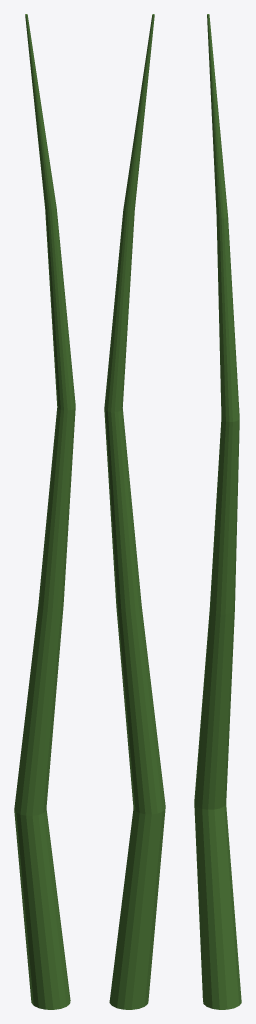
Rendered from cone grass.fbx.
3 renders of one model, left to right at view 1: azimuth 30°, elevation 25°; view 2: azimuth 210°, elevation 25°; view 3: azimuth 330°, elevation 25°, orthographic.
Parts seen in each view (by area): view 1: Cylinder; view 2: Cylinder; view 3: Cylinder.
Boxes of the visible parts, <box> form: Cylinder: <box>14,14,75,1009</box>; Cylinder: <box>104,14,165,1009</box>; Cylinder: <box>194,14,241,1009</box>.
Bounding box in the file's own units: 320 × 5981 × 244.
